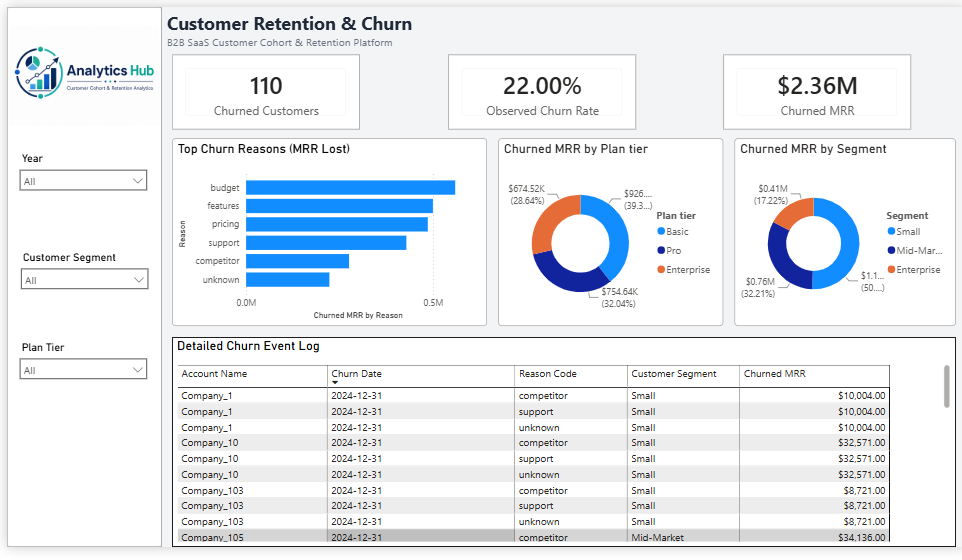

This screenshot's page, from the dashboard's own definition file:
{"tool":"powerbi","page":{"name":"03.Customer Retention","canvas":[1280,720],"ordinal":2},"visuals":[{"type":"shape","title":"Analytics Hub","box":[0,0,206.7,720],"z":0},{"type":"slicer","fields":{"Values":["Dim_Calendar.Year"]},"box":[6.7,188.3,190,80],"z":1000},{"type":"slicer","fields":{"Values":["Dim_Account.Customer Segment"]},"box":[8.3,320,190,80],"z":2000},{"type":"slicer","fields":{"Values":["Dim_Account.plan_tier"]},"box":[6.7,440,190,80],"z":3000},{"type":"image","box":[3.3,6.7,200,170],"z":4000},{"type":"textbox","box":[208.3,0,996.7,63.3],"z":5000},{"type":"cardVisual","fields":{"Data":["Dim_Account.Observed Churn Rate"]},"box":[587.5,63.3,250,100],"z":6000},{"type":"cardVisual","fields":{"Data":["Fact_ChurnEvents.Churned MRR"]},"box":[955,63.3,250,100],"z":7000},{"type":"cardVisual","fields":{"Data":["Dim_Account.Churned Customers"]},"box":[220,63.3,250,100],"z":8000},{"type":"barChart","title":"Top Churn Reasons (MRR Lost)","fields":{"Category":["Fact_ChurnEvents.reason_code"],"Y":["Fact_ChurnEvents.Churned MRR by Reason"]},"box":[220,175,420,250],"z":9000},{"type":"donutChart","title":"Churned MRR by Plan tier","fields":{"Category":["Dim_Account.plan_tier"],"Y":["Fact_ChurnEvents.Churned MRR"]},"box":[655,175,300,250],"z":10000},{"type":"donutChart","fields":{"Category":["Dim_Account.Customer Segment"],"Y":["Fact_ChurnEvents.Churned MRR"]},"box":[970,175,295,250],"z":11000},{"type":"tableEx","title":"Detailed Churn Event Log","fields":{"Values":["Dim_Account.account_name","Fact_ChurnEvents.churn_date","Fact_ChurnEvents.reason_code","Dim_Account.Customer Segment","Fact_ChurnEvents.Churned MRR"]},"box":[219.6,440.5,1045,280],"z":12000}]}

Visuals, with their boxes on the page's 1280x720 design canvas (x1, y1, x2, y2). These are canvas units, not pixel positions in the 962x560 screenshot, which may show the page scaled, cropped or inside an application window:
"Analytics Hub" shape: bbox=[0, 0, 207, 720]
slicer - Dim_Calendar.Year: bbox=[7, 188, 197, 268]
slicer - Dim_Account.Customer Segment: bbox=[8, 320, 198, 400]
slicer - Dim_Account.plan_tier: bbox=[7, 440, 197, 520]
image: bbox=[3, 7, 203, 177]
textbox: bbox=[208, 0, 1205, 63]
cardVisual - Dim_Account.Observed Churn Rate: bbox=[588, 63, 838, 163]
cardVisual - Fact_ChurnEvents.Churned MRR: bbox=[955, 63, 1205, 163]
cardVisual - Dim_Account.Churned Customers: bbox=[220, 63, 470, 163]
"Top Churn Reasons (MRR Lost)" barChart: bbox=[220, 175, 640, 425]
"Churned MRR by Plan tier" donutChart: bbox=[655, 175, 955, 425]
donutChart - Dim_Account.Customer Segment x Fact_ChurnEvents.Churned MRR: bbox=[970, 175, 1265, 425]
"Detailed Churn Event Log" tableEx: bbox=[220, 440, 1265, 720]
